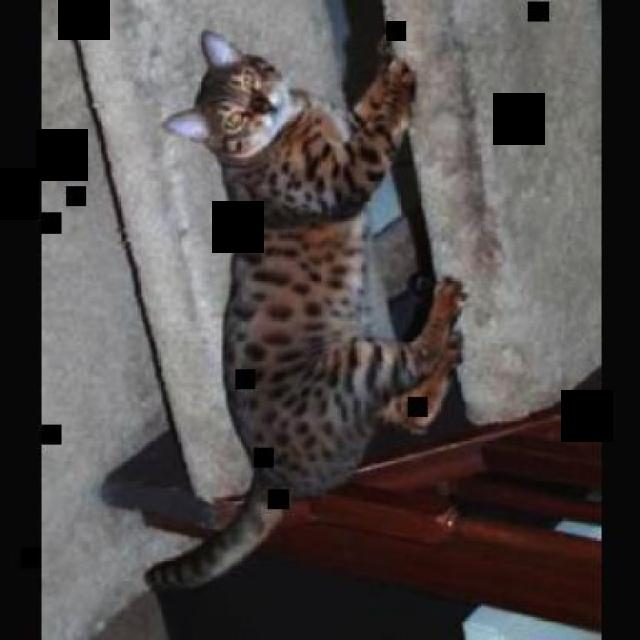unauthorized: (142, 26, 468, 592)
